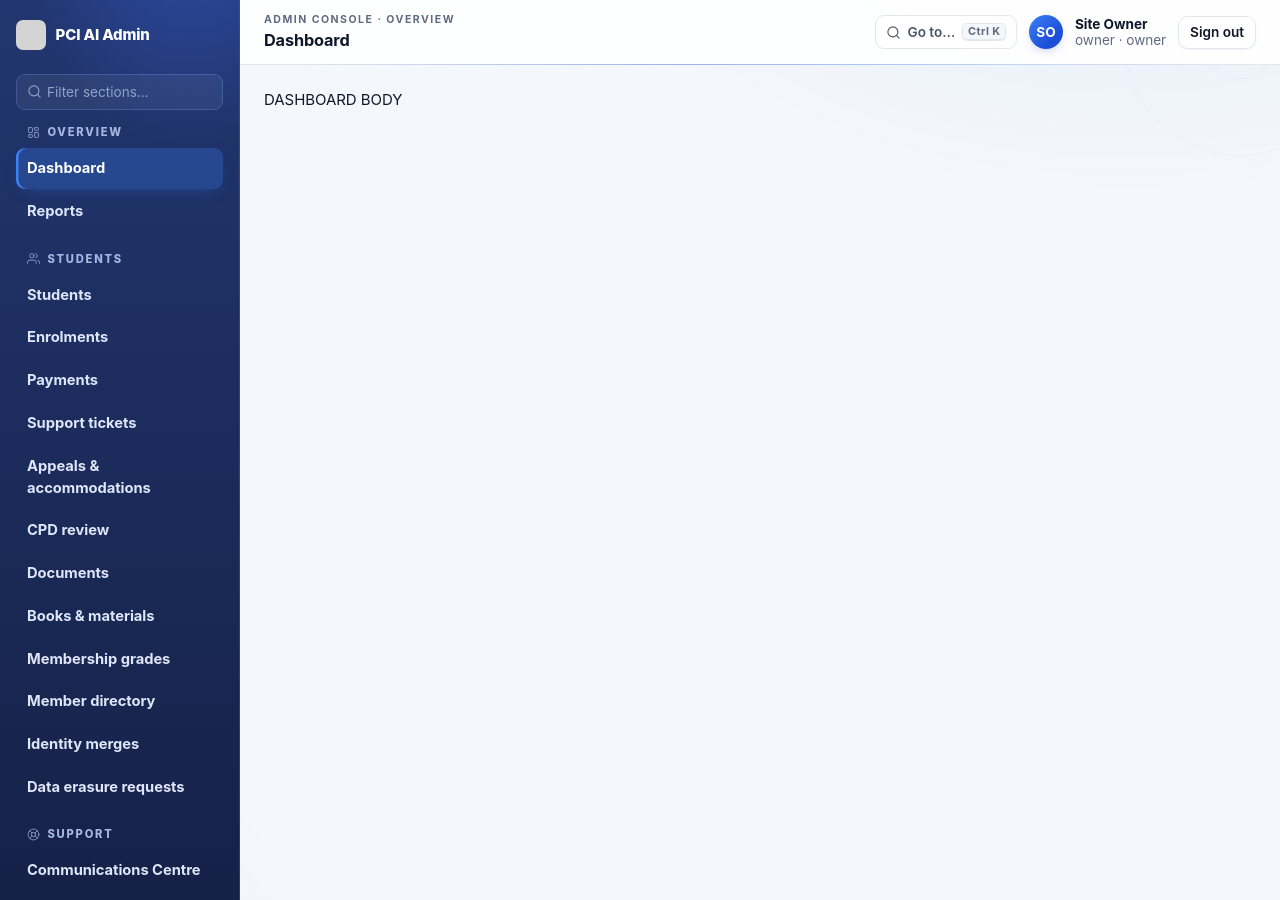
Test: AdminLayout premium shell › Ctrl+K opens the command palette and Enter navigates to the top match
The width and height of the screenshot is (1280, 900).
Check: the text "DASHBOARD BODY" is shown, box [264,90,402,109]
Type keys "{Control>}k{/Control}"
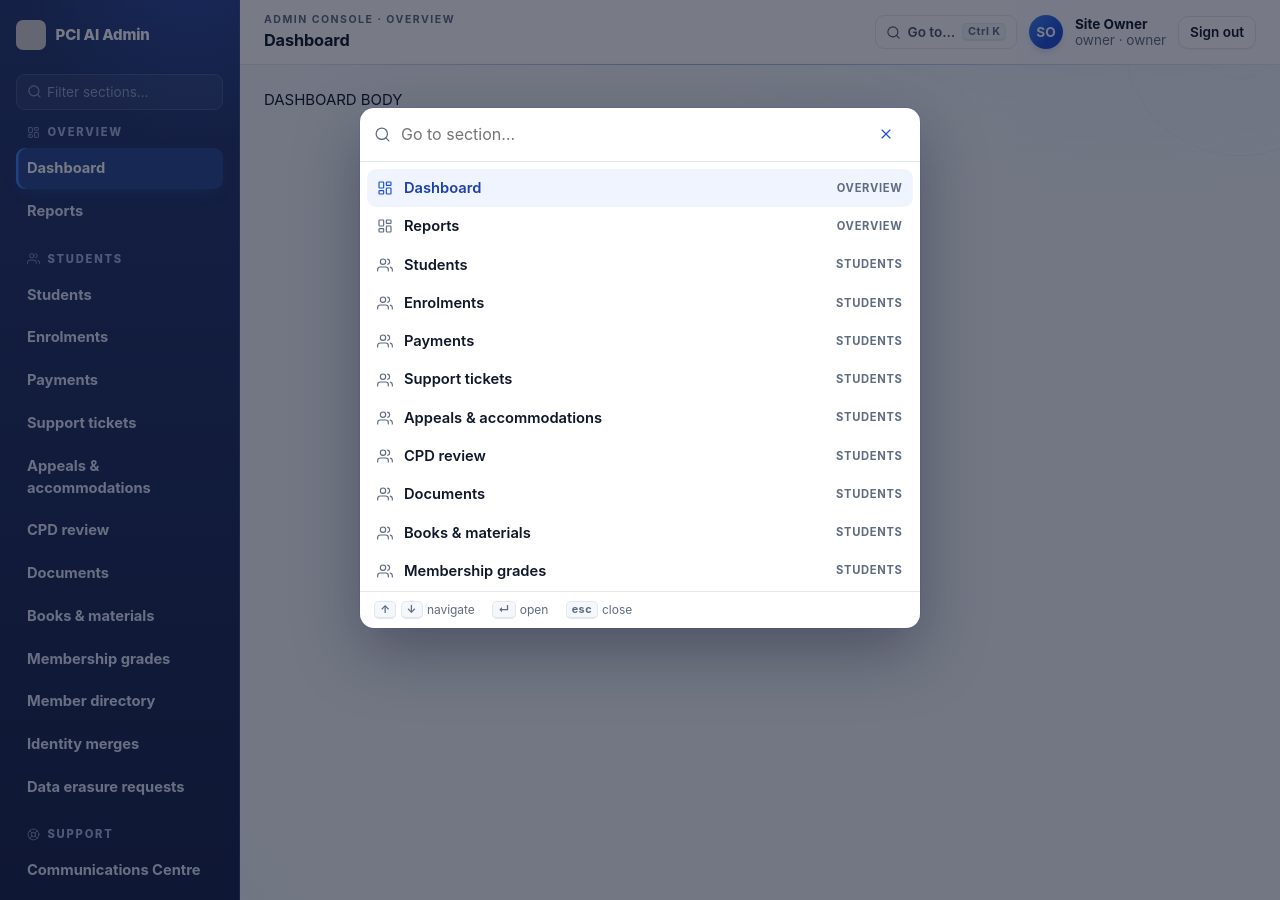
Type "email log" into the dropdown named "Search sections".
click(629, 134); type("email log")  # box [401,122,856,146]
Then press Enter
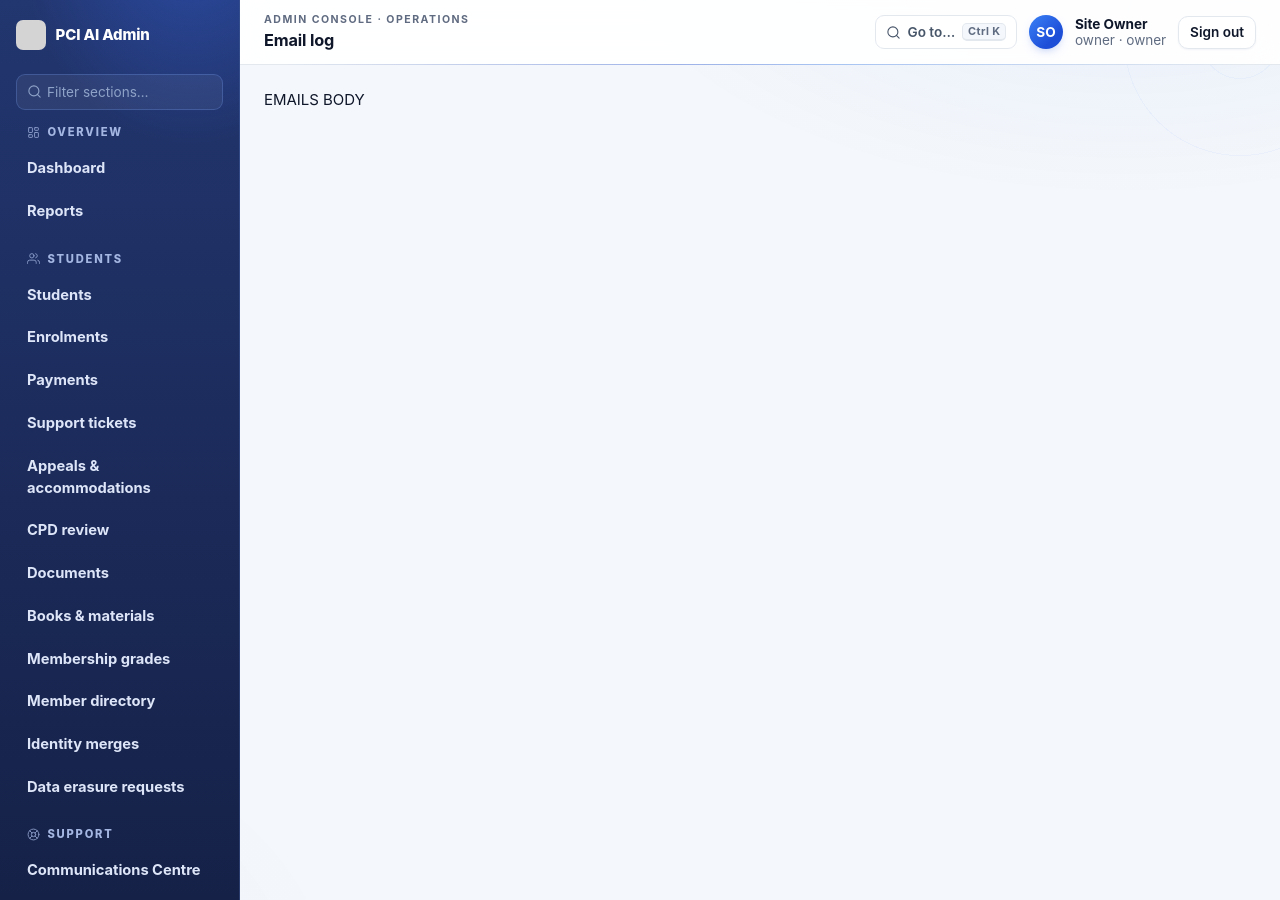
Check: the text "EMAILS BODY" is shown, box [264,90,365,109]
